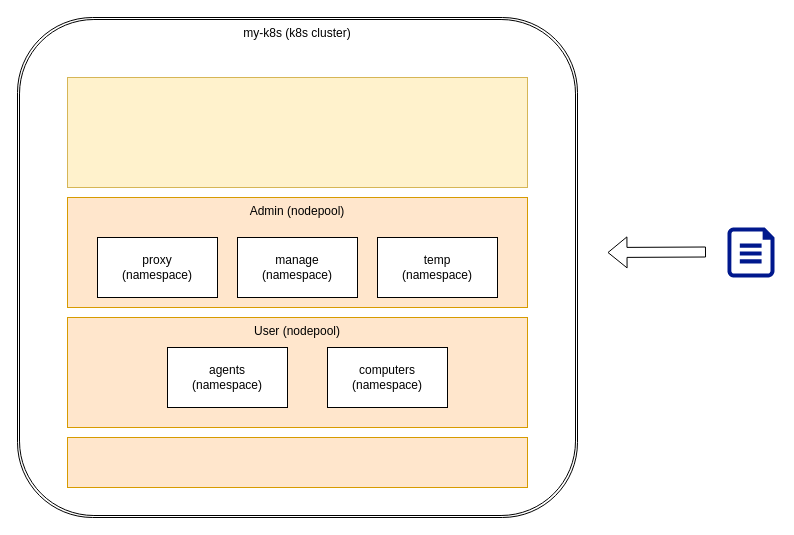
This 794x535 diagram has some shape labels left out. The shapes that lost their labels are listed below. From the top down, each one's centre as x and y in pixels, then its label:
At (297,132): "System (nodepool)".
At (750,252): "Terraform".
At (297,462): "... etc".
